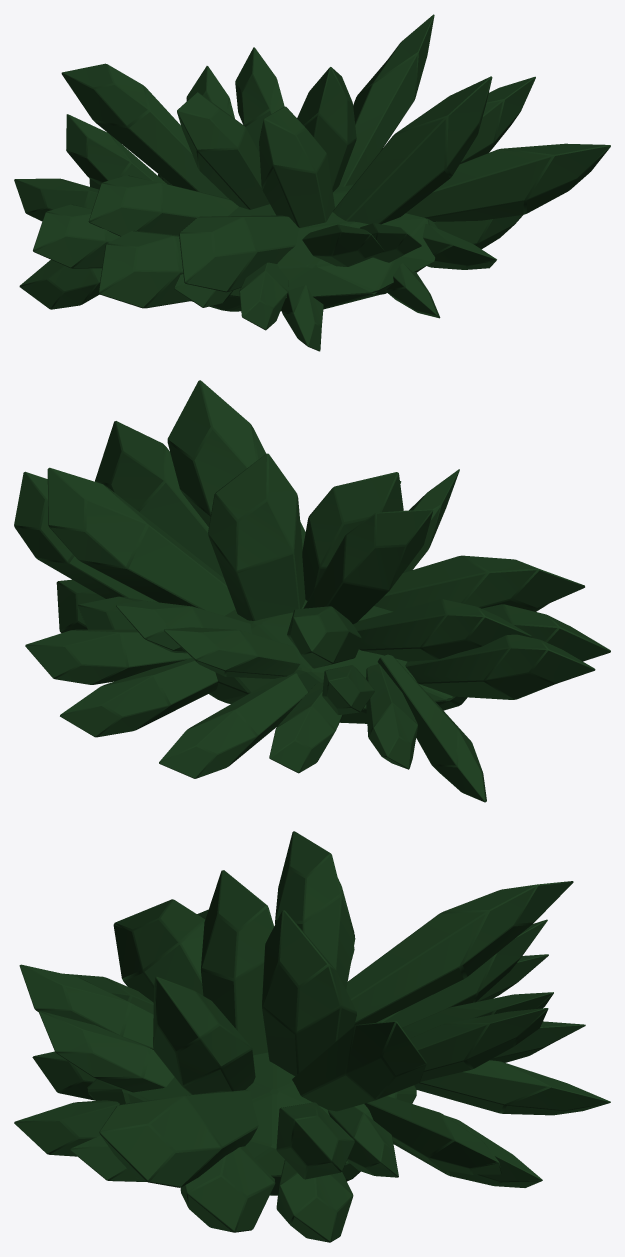
File: Pyroxine.dae
The picture shows the model from 3 angles, top to bottom: view 1: azimuth 30°, elevation 25°; view 2: azimuth 150°, elevation 25°; view 3: azimuth 270°, elevation 25°; orthographic projection. The views are drawn at different scales.
Parts seen in each view (by area): view 1: Cube.019, Cube.006, Cube.022, Icosphere, Cube.002, Cube.020, Cube.018, Cube.021, Cube.003, Cube.001, Cube.023, Cube.000 (+14 smaller); view 2: Cube.018, Cube.023, Cube.021, Cube.000, Cube.019, Cube.002, Cube.006, Cube.003, Cube.017, Cube.011, Cube.009, Cube.020 (+13 smaller); view 3: Cube.022, Cube.006, Cube.023, Cube.020, Cube.019, Cube.018, Cube.002, Cube.021, Cube.017, Icosphere, Cube.025, Cube.009 (+15 smaller).
Part boxes in pixels (x1,y1,x2,y2): Cube.019: (332, 76, 492, 224); Cube.006: (406, 143, 610, 221); Cube.022: (61, 63, 228, 198); Icosphere: (191, 184, 437, 311); Cube.002: (179, 215, 299, 292); Cube.020: (259, 106, 334, 227); Cube.018: (339, 14, 434, 186); Cube.021: (177, 92, 269, 209); Cube.003: (88, 175, 238, 236); Cube.001: (98, 230, 191, 308); Cube.023: (297, 67, 356, 191); Cube.000: (33, 204, 120, 268); Cube.018: (47, 467, 235, 615); Cube.023: (208, 453, 305, 620); Cube.021: (303, 509, 433, 624); Cube.000: (405, 634, 595, 699); Cube.019: (167, 380, 305, 548); Cube.002: (374, 555, 584, 611); Cube.006: (95, 421, 223, 577); Cube.003: (353, 599, 531, 661); Cube.017: (159, 673, 307, 778); Cube.011: (60, 658, 218, 737); Cube.009: (25, 629, 191, 684); Cube.020: (302, 472, 403, 600); Cube.022: (346, 881, 573, 1025); Cube.006: (99, 1090, 258, 1187); Cube.023: (262, 910, 356, 1076); Cube.020: (201, 870, 273, 1055); Cube.019: (153, 976, 255, 1094); Cube.018: (292, 1021, 426, 1111); Cube.002: (113, 899, 205, 1002); Cube.021: (275, 831, 355, 989); Cube.017: (414, 1060, 610, 1115); Icosphere: (87, 1052, 416, 1195); Cube.025: (39, 1011, 174, 1092); Cube.009: (364, 1096, 501, 1174).
Bounding box in the file's own units: 3.6 × 2.93 × 1.49.
